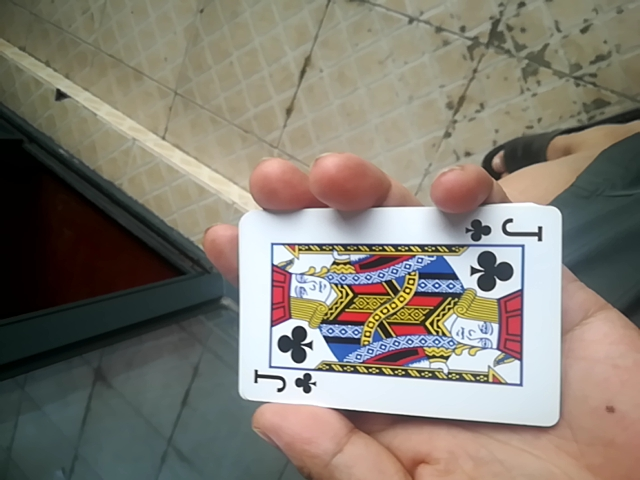mh j: (231, 198, 561, 426)
